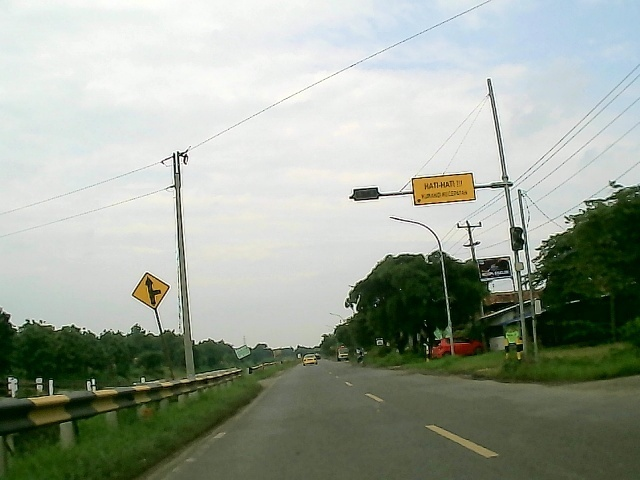Simpang kanan dengan prioritas: (129, 271, 173, 310)
